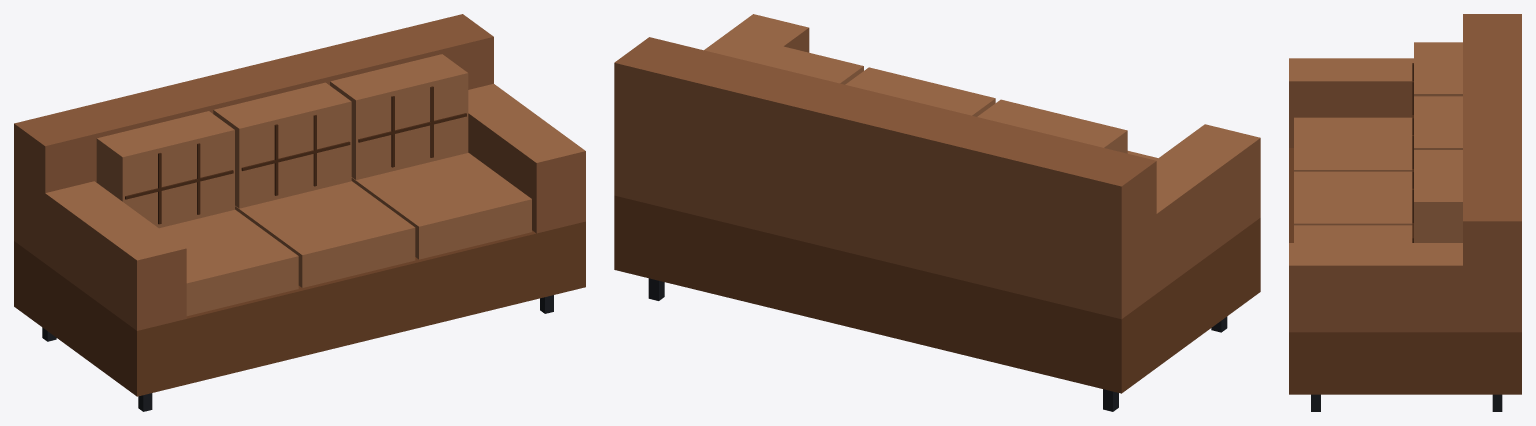
The model's file is leather_sofa.glb.
The picture shows the model from 3 angles, left to right: view 1: azimuth 30°, elevation 25°; view 2: azimuth 150°, elevation 25°; view 3: azimuth 270°, elevation 25°; orthographic projection. The views are drawn at different scales.
Parts seen in each view (by area): view 1: leather_sofa; view 2: leather_sofa; view 3: leather_sofa.
Part boxes in pixels (x1,y1,x2,y2): leather_sofa: [14, 14, 585, 411]; leather_sofa: [614, 14, 1260, 411]; leather_sofa: [1289, 14, 1521, 411].
Size of the model in its own units: 2 by 0.9 by 0.95.
